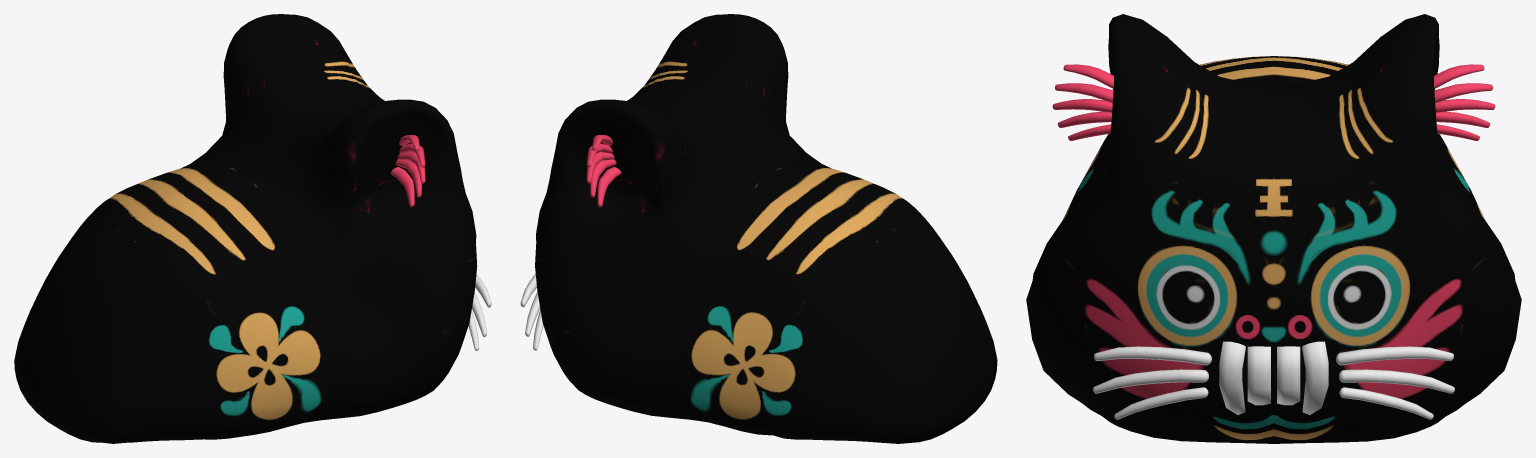
The model's file is tiger-hat.glb.
3 views of the same model, side by side, from view 1: azimuth 30°, elevation 25°; view 2: azimuth 150°, elevation 25°; view 3: azimuth 270°, elevation 25° (orthographic). The views are drawn at different scales.
Parts seen in each view (by area): view 1: hat; view 2: hat; view 3: hat.
Part boxes in pixels (x1,y1,x2,y2): hat: [14, 14, 491, 443]; hat: [520, 14, 997, 443]; hat: [1026, 14, 1521, 443].
Bounding box in the file's own units: 4.04 × 2.9 × 3.37.
1 material, 1 textured.
